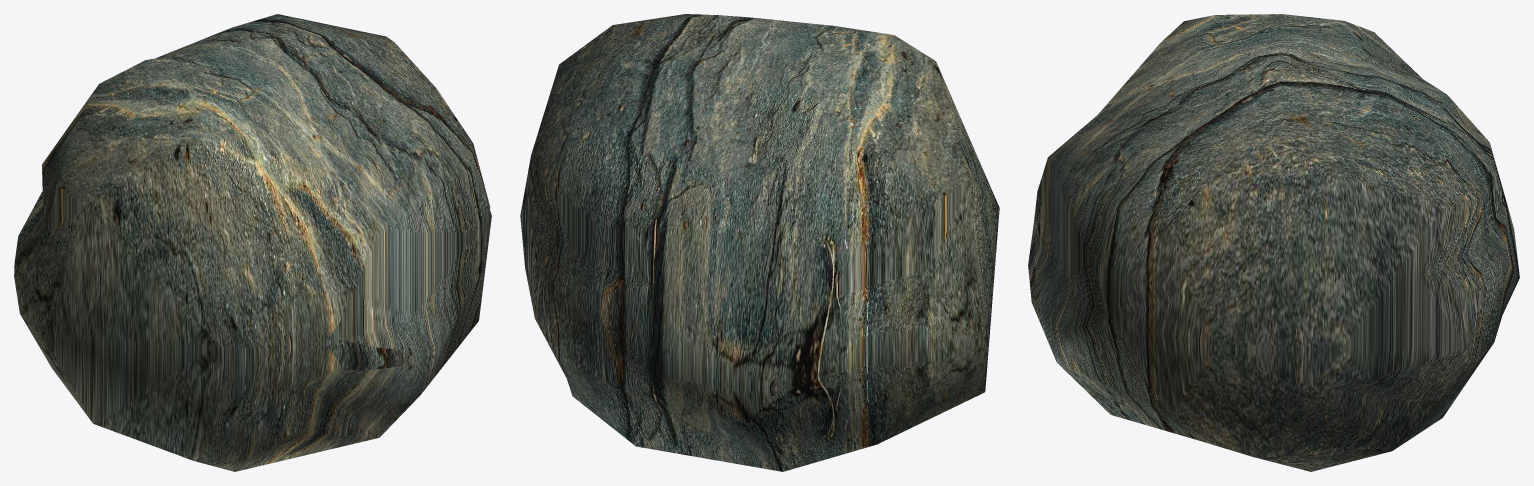
The model's file is Rock.FBX.
3 renders of one model, left to right at view 1: azimuth 30°, elevation 25°; view 2: azimuth 150°, elevation 25°; view 3: azimuth 270°, elevation 25°, orthographic. The views are drawn at different scales.
Parts seen in each view (by area): view 1: GeoSphere001; view 2: GeoSphere001; view 3: GeoSphere001.
Boxes of the visible parts, x1,y1,x2,y2 form: GeoSphere001: (14,14,491,471); GeoSphere001: (520,14,999,471); GeoSphere001: (1028,14,1519,471).
Bounding box in the file's own units: 30.72 × 27.33 × 30.73.
Materials: 1 (1 with a texture image).
